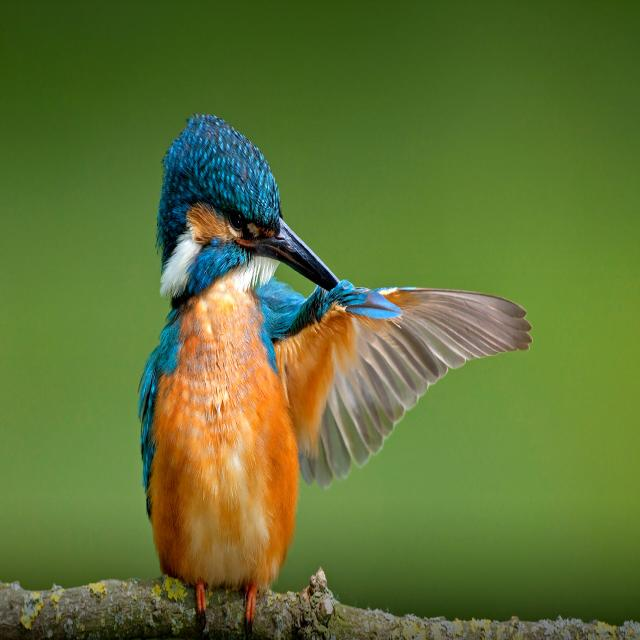kingfisher: (120, 88, 542, 638)
